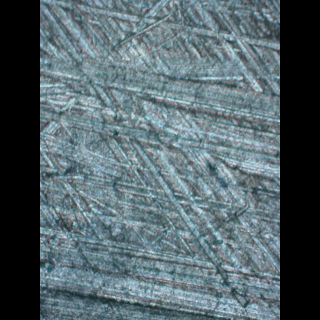d: (40, 39, 278, 181), (41, 226, 280, 320)
